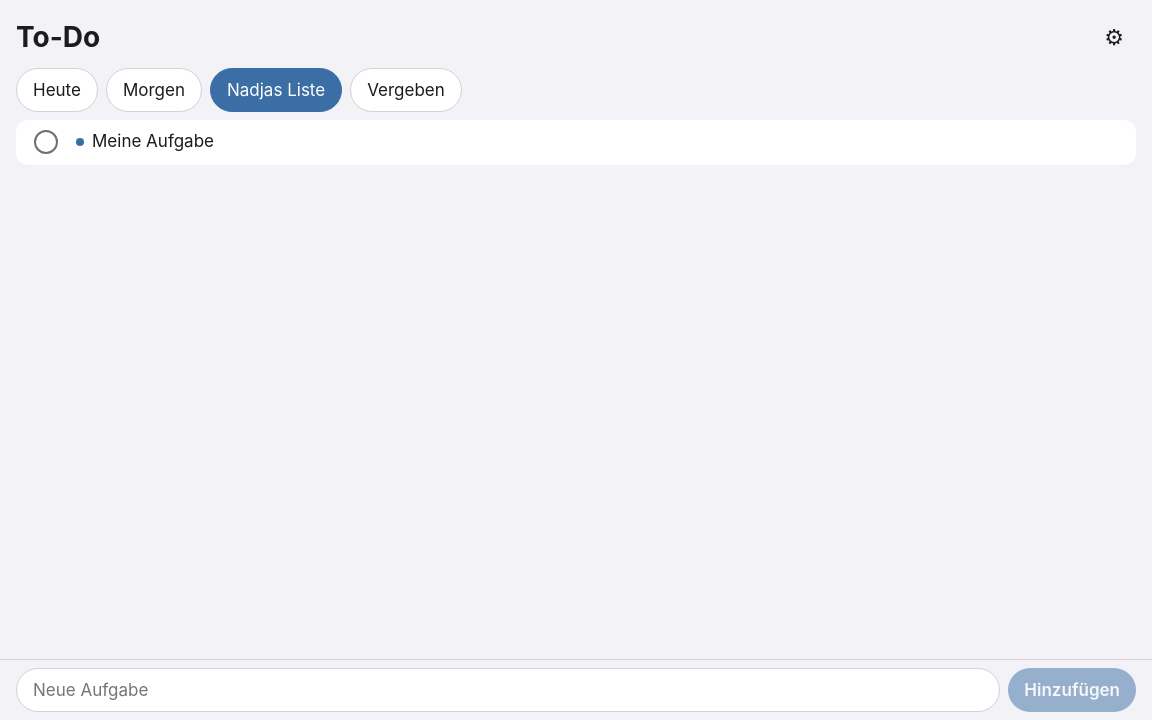
App with two people › offers a Vergeben tab that shows what I handed over, with its status
This screenshot has width=1152, height=720.
Expected: the text "Müll rausbringen" is not shown
Click the tab "Vergeben".
click(406, 90)  # box [350, 68, 462, 112]
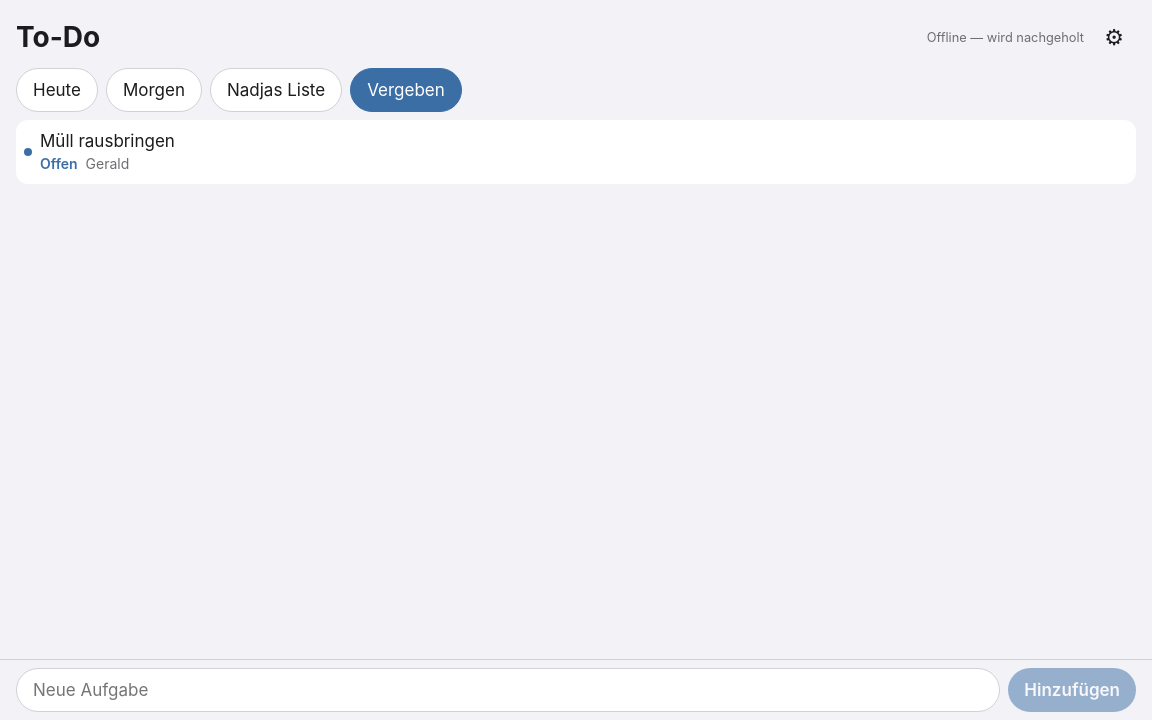
Now the text "Müll rausbringen" is shown, box [40, 130, 175, 153]
Now the text "Offen" is shown, box [40, 155, 78, 174]
Now the text "Gerald" is shown, box [86, 155, 129, 174]
